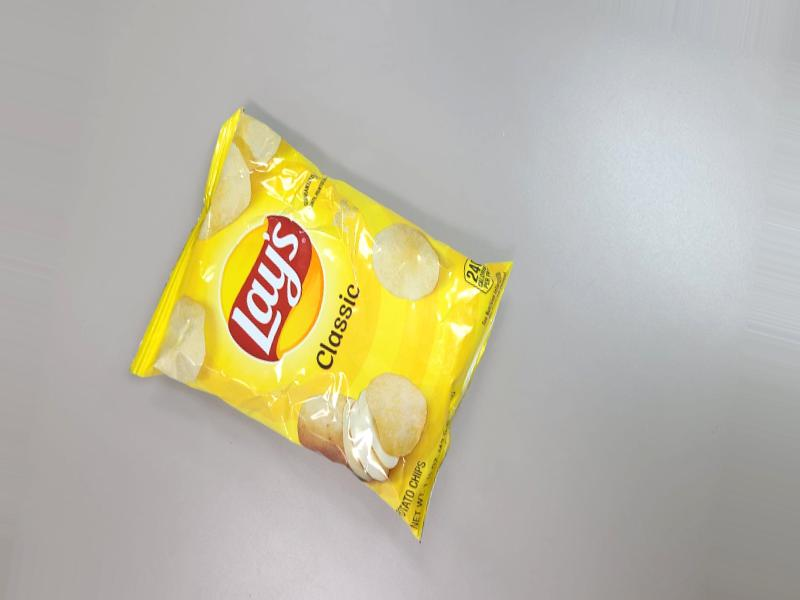lays: (205, 131, 596, 553)
